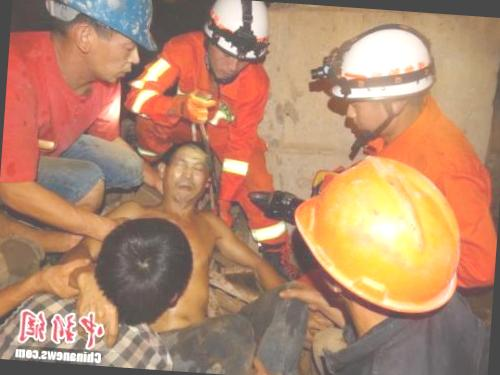no_helmet: (83, 210, 206, 327), (152, 138, 220, 210)
